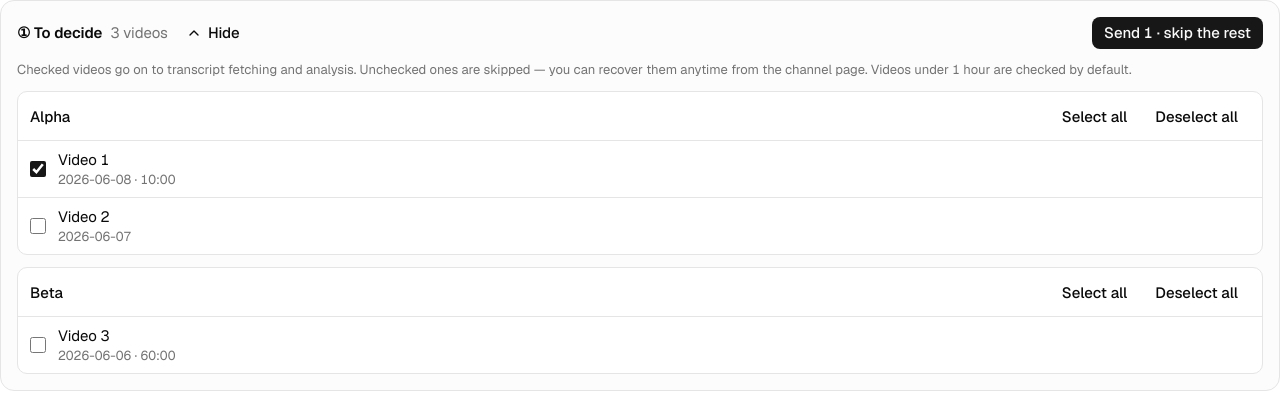
Test: Inbox › can be collapsed by hand
Expected: the text "Video 1" is shown, [58,150,110,169]
Click the button "Hide".
click(213, 33)  # box [176,17,250,49]
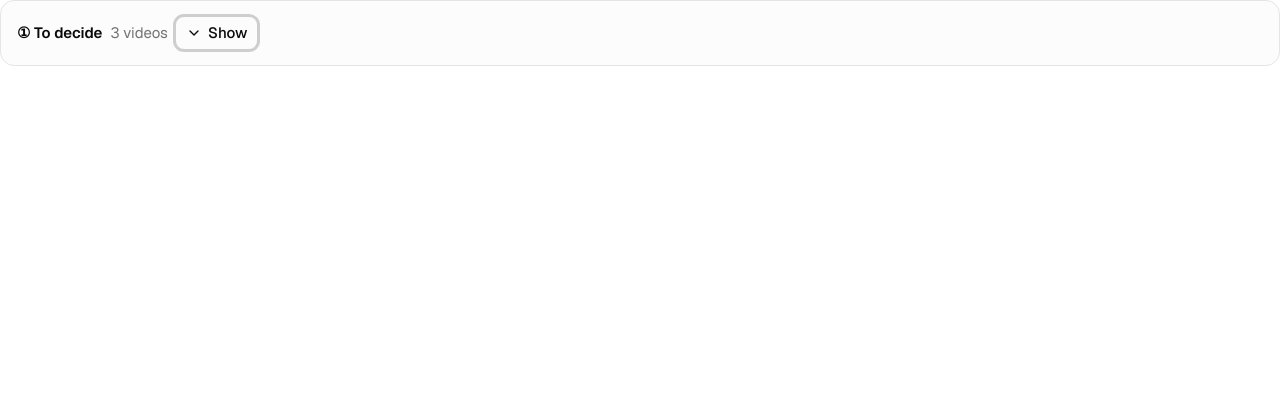
Expected: the text "Video 1" is gone
